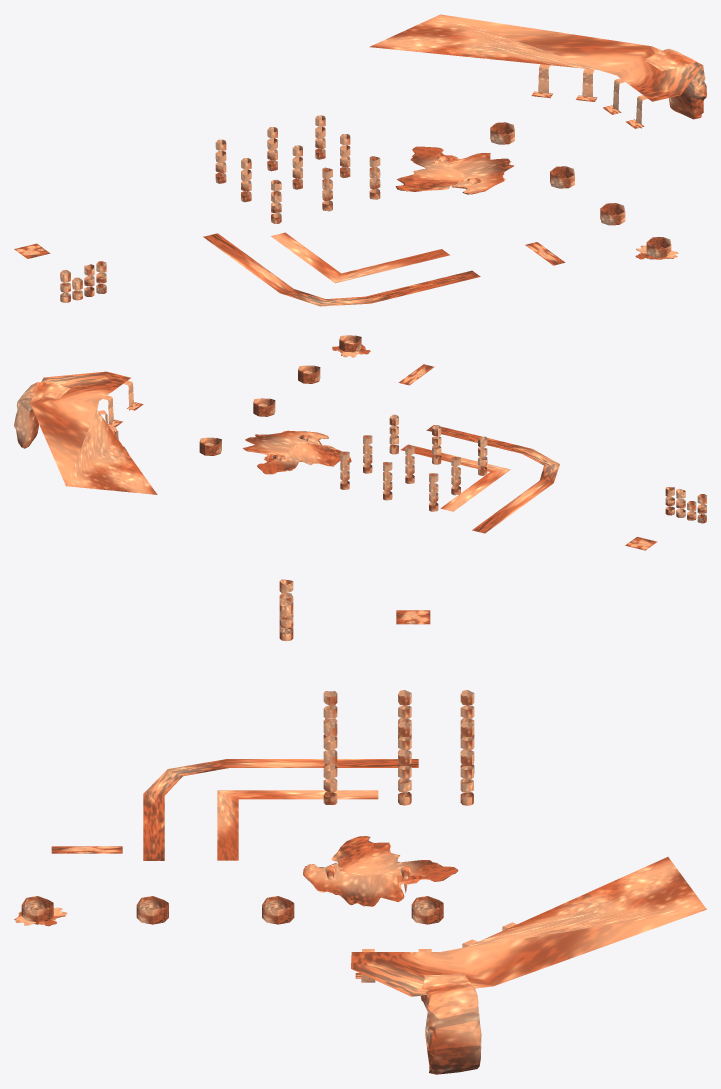
Rendered from LV5Lava.fbx.
3 views of the same model, one above another, from view 1: azimuth 30°, elevation 25°; view 2: azimuth 150°, elevation 25°; view 3: azimuth 270°, elevation 25° (orthographic). The views are drawn at different scales.
Visible parts, largest first — view 1: polySurface158; view 2: polySurface158; view 3: polySurface158.
Boxes of the visible parts, x1,y1,x2,y2 form: polySurface158: (14, 14, 706, 306); polySurface158: (14, 335, 706, 550); polySurface158: (14, 579, 706, 1074).
Size of the model in its own units: 501 by 55.12 by 343.
